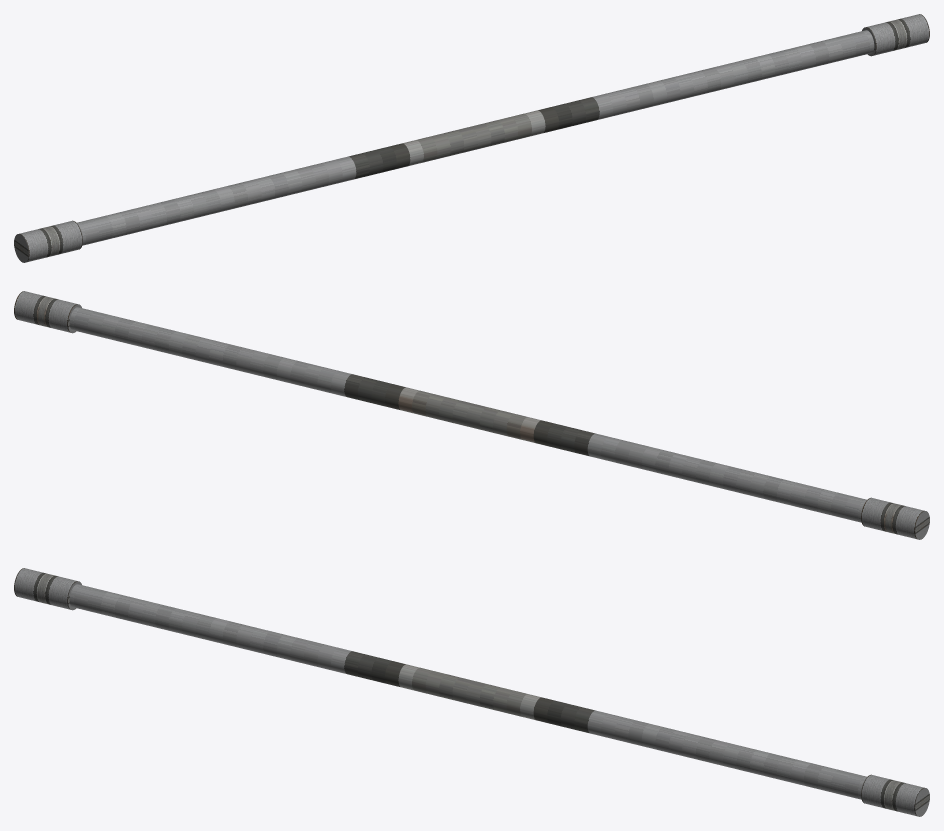
The model's file is drying-bar.glb.
3 renders of one model, top to bottom at view 1: azimuth 30°, elevation 25°; view 2: azimuth 150°, elevation 25°; view 3: azimuth 330°, elevation 25°, orthographic.
Parts seen in each view (by area): view 1: barrel, flange (×2); view 2: barrel, flange (×2); view 3: barrel, flange (×2).
Boxes of the visible parts, x1,y1,x2,y2 form: barrel: (77,30,874,245); flange (×2): (14,14,929,262); barrel: (69,307,866,522); flange (×2): (14,291,929,539); barrel: (69,584,866,799); flange (×2): (14,568,929,816).
Bounding box in the file's own units: 1.4 × 0.04 × 0.04.
1 material, 1 textured.
